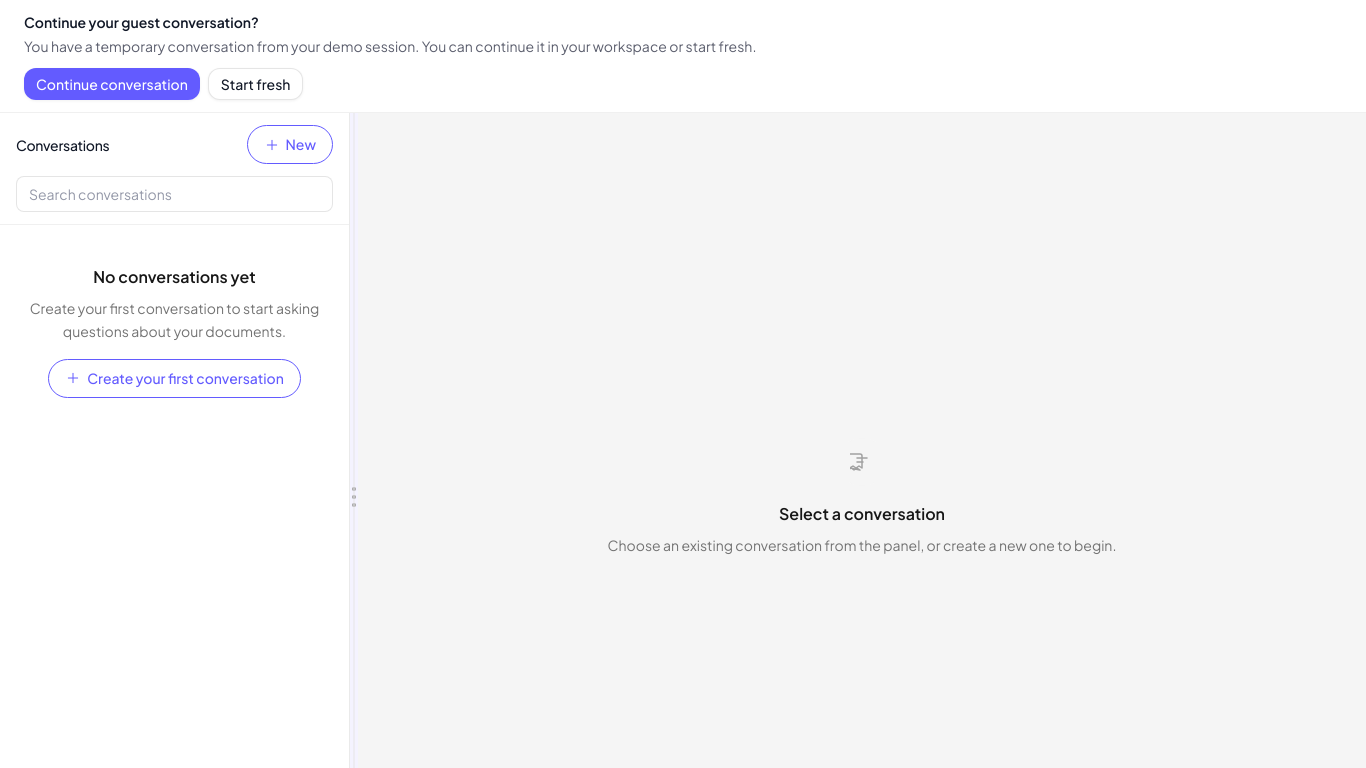
Test: ChatPage guest continue prompt › failed import preserves guest state
The width and height of the screenshot is (1366, 768).
What coordinates should you click on to do the following:
click the button "Continue conversation"
I would click on:
 (112, 84)
Its box is [24,68,200,100].
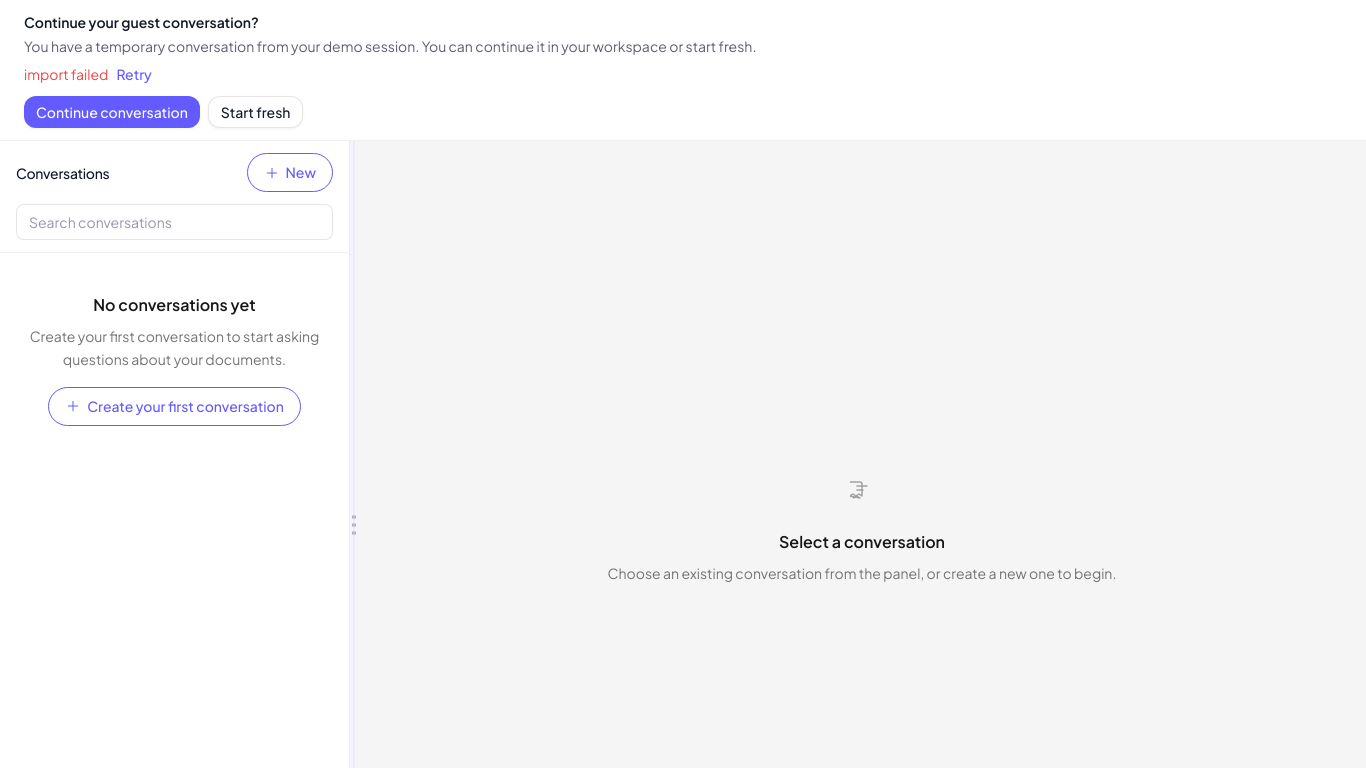
Expected: the text "Continue your guest conversation?" is shown, [24,13,259,31]
Now the message "import failed Retry" is shown, box [24,64,152,84]
